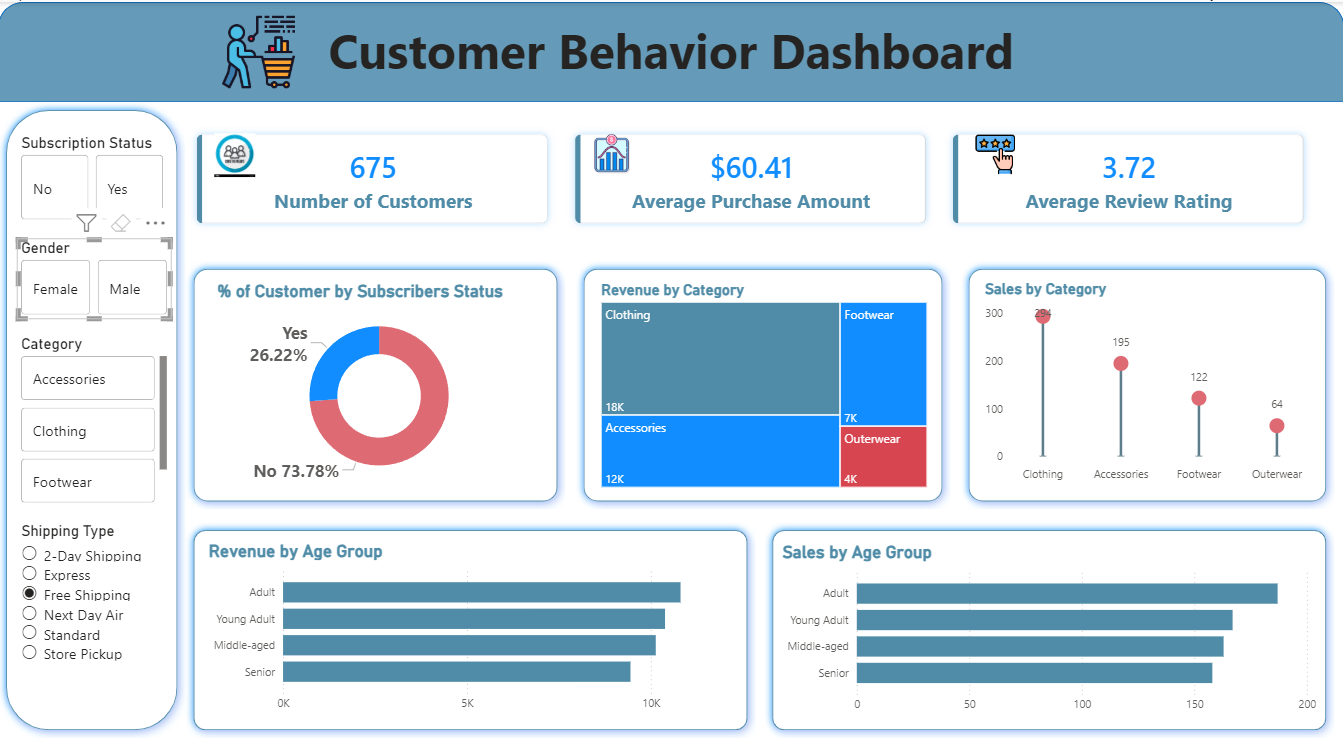

This screenshot's page, from the dashboard's own definition file:
{"tool":"powerbi","page":{"name":"Page 1","canvas":[1500,820],"ordinal":0},"visuals":[{"type":"cardVisual","fields":{"Data":["mydatabase customer.Number of Customers","mydatabase customer.Average Purchase Amount","mydatabase customer.Average Review Rating"]},"box":[193.6,119.8,1291,156],"z":0},{"type":"shape","box":[0,0,1499.9,111.4],"z":1000},{"type":"textbox","box":[0,12.5,1499.9,87.7],"z":2000},{"type":"shape","box":[208.9,288.3,423.4,277.1],"z":3000},{"type":"donutChart","title":"% of Customer by Subscribers Status","fields":{"Category":["mydatabase customer.subscription_status"],"Y":["CountNonNull(mydatabase customer.customer_id)"]},"box":[239.5,310.6,370.5,235.4],"z":4000},{"type":"shape","box":[643.4,288.3,417.8,277.1],"z":5000},{"type":"shape","box":[1072.4,288.3,416.4,277.1],"z":6000},{"type":"treemap","title":"Revenue by Category","fields":{"Group":["mydatabase customer.category"],"Values":["Sum(mydatabase customer.purchase_amount)"]},"box":[667.1,310.6,373.2,235.4],"z":7000},{"type":"lineChart","title":"Sales by Category ","fields":{"Y":["CountNonNull(mydatabase customer.customer_id)"],"Category":["mydatabase customer.category"]},"box":[1094.6,309.2,373.2,235.4],"z":8000},{"type":"shape","box":[0,111.4,208.9,708.9],"z":9000},{"type":"advancedSlicerVisual","fields":{"Values":["mydatabase customer.subscription_status"]},"box":[20.9,146.2,169.9,101.7],"z":10000},{"type":"advancedSlicerVisual","fields":{"Values":["mydatabase customer.gender"]},"box":[20.9,263.2,172.7,90.5],"z":11000},{"type":"advancedSlicerVisual","fields":{"Values":["mydatabase customer.category"]},"box":[20.9,370.5,172.7,195],"z":12000},{"type":"listSlicer","fields":{"Values":["mydatabase customer.shipping_type"]},"box":[20.9,579.4,162.9,208.9],"z":13000},{"type":"shape","box":[208.9,579.4,635.1,240.9],"z":14000},{"type":"clusteredBarChart","title":"Revenue by Age Group","fields":{"Category":["mydatabase customer.age_group"],"Y":["Sum(mydatabase customer.purchase_amount)"]},"box":[229.8,600.2,594.7,199.2],"z":15000},{"type":"shape","box":[853.7,579.4,635.1,240.9],"z":16000},{"type":"clusteredBarChart","title":"Sales by Age Group","fields":{"Category":["mydatabase customer.age_group"],"Y":["CountNonNull(mydatabase customer.customer_id)"]},"box":[869,601.6,604.4,199.2],"z":17000},{"type":"image","box":[183.8,12.5,213.1,86.3],"z":18000},{"type":"image","box":[655.9,146.2,57.1,46],"z":19000},{"type":"image","box":[1083.5,146.2,55.7,47.4],"z":20000},{"type":"image","box":[229.8,146.2,68.2,48.7],"z":21000}]}

Visuals, with their boxes in screenshot pixels (x1, y1, x2, y2), scaled from the page's 1500x820 canvas onto the 1343x738 screenshot:
cardVisual - mydatabase customer.Number of Customers x mydatabase customer.Average Purchase Amount: <bbox>173, 108, 1329, 248</bbox>
shape: <bbox>0, 0, 1342, 100</bbox>
textbox: <bbox>0, 11, 1342, 90</bbox>
shape: <bbox>187, 259, 566, 509</bbox>
"% of Customer by Subscribers Status" donutChart: <bbox>214, 280, 546, 491</bbox>
shape: <bbox>576, 259, 950, 509</bbox>
shape: <bbox>960, 259, 1333, 509</bbox>
"Revenue by Category" treemap: <bbox>597, 280, 931, 491</bbox>
"Sales by Category " lineChart: <bbox>980, 278, 1314, 490</bbox>
shape: <bbox>0, 100, 187, 737</bbox>
advancedSlicerVisual - mydatabase customer.subscription_status: <bbox>19, 132, 171, 223</bbox>
advancedSlicerVisual - mydatabase customer.gender: <bbox>19, 237, 173, 318</bbox>
advancedSlicerVisual - mydatabase customer.category: <bbox>19, 333, 173, 509</bbox>
listSlicer - mydatabase customer.shipping_type: <bbox>19, 521, 165, 709</bbox>
shape: <bbox>187, 521, 756, 737</bbox>
"Revenue by Age Group" clusteredBarChart: <bbox>206, 540, 738, 719</bbox>
shape: <bbox>764, 521, 1333, 737</bbox>
"Sales by Age Group" clusteredBarChart: <bbox>778, 541, 1319, 721</bbox>
image: <bbox>165, 11, 355, 89</bbox>
image: <bbox>587, 132, 638, 173</bbox>
image: <bbox>970, 132, 1020, 174</bbox>
image: <bbox>206, 132, 267, 175</bbox>
